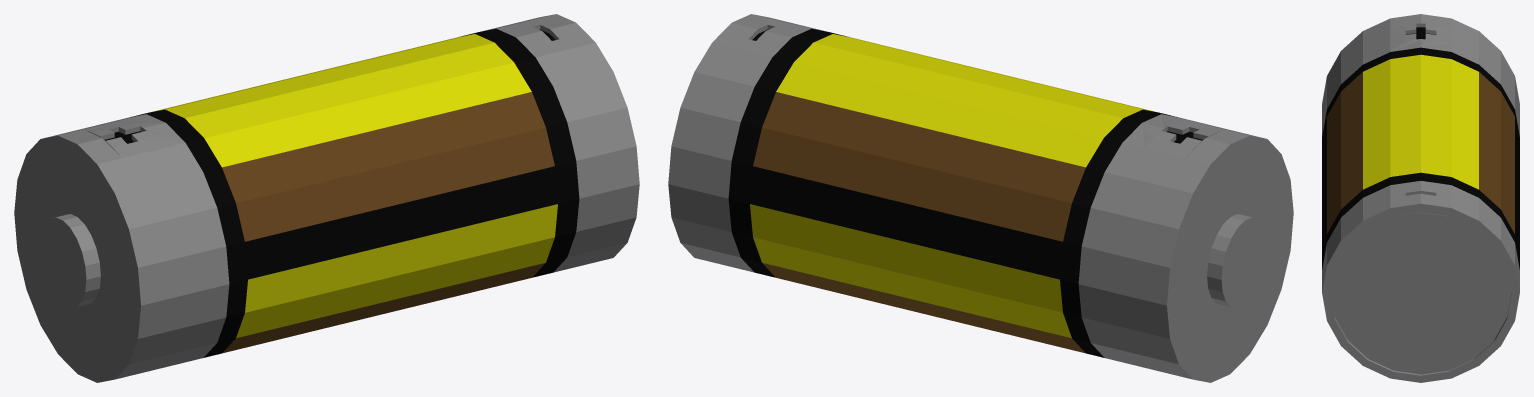
The model's file is Battery.fbx.
3 renders of one model, left to right at view 1: azimuth 30°, elevation 25°; view 2: azimuth 150°, elevation 25°; view 3: azimuth 270°, elevation 25°, orthographic. The views are drawn at different scales.
Visible parts, largest first — view 1: pCylinder1; view 2: pCylinder1; view 3: pCylinder1.
Part boxes in pixels (x1=…): pCylinder1: x1=14, y1=14, x2=639, y2=382; pCylinder1: x1=668, y1=14, x2=1293, y2=382; pCylinder1: x1=1322, y1=14, x2=1519, y2=382.
Bounding box in the file's own units: 4.68 × 2 × 2.
